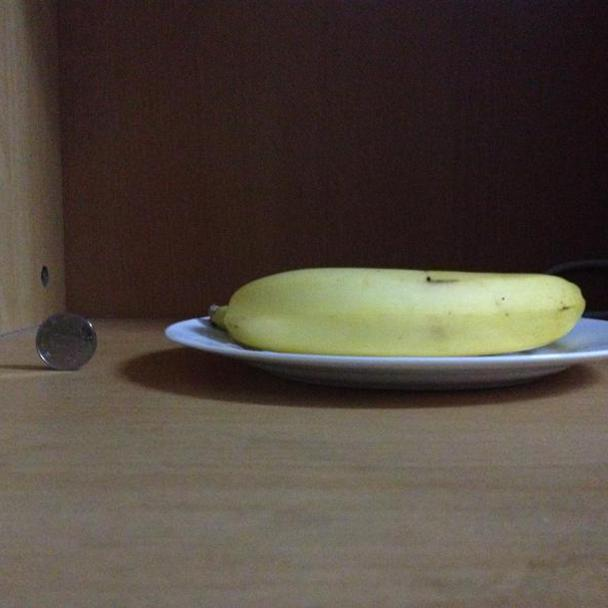banana: (202, 266, 587, 354)
